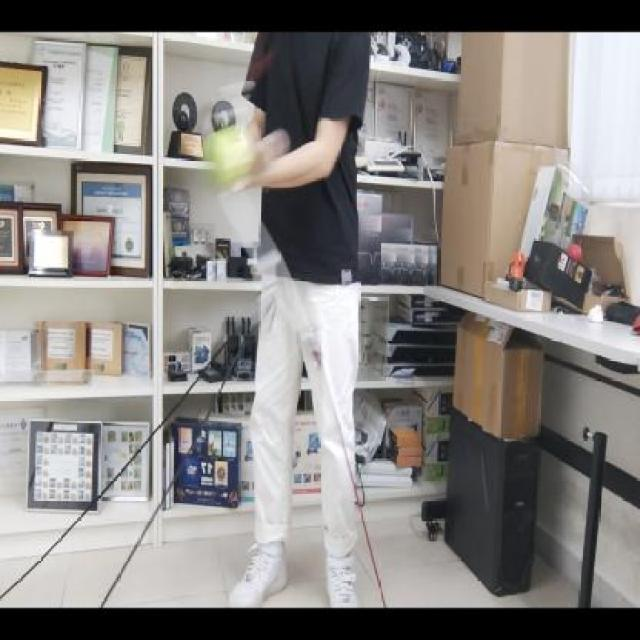baseball: (202, 120, 249, 192)
